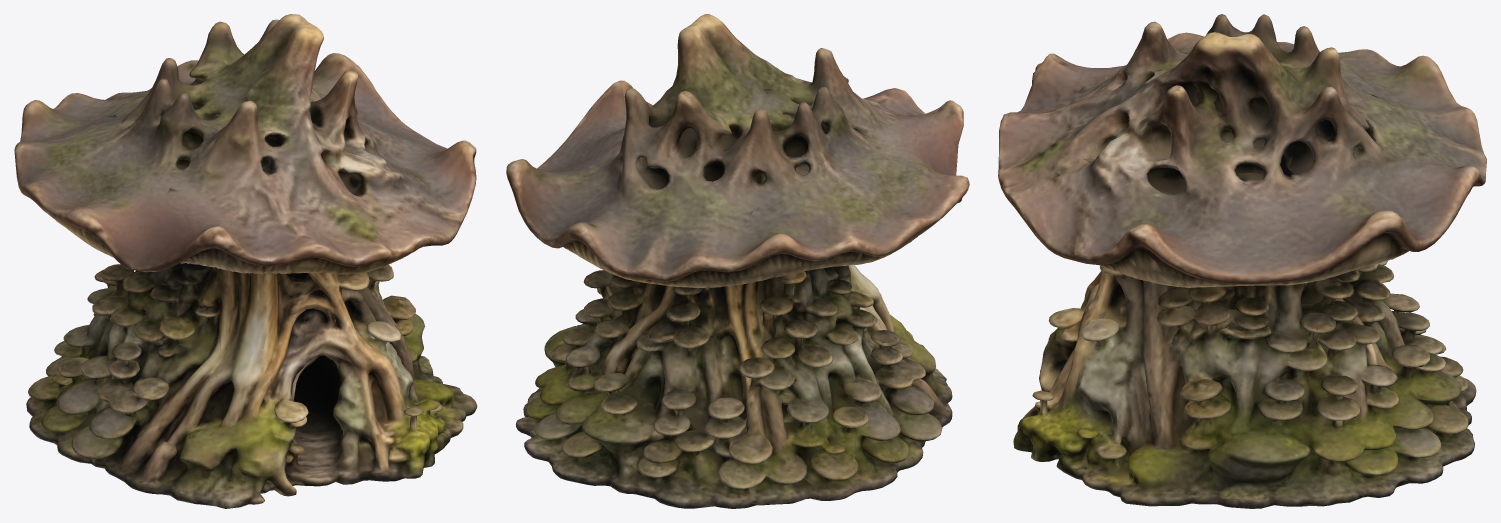
The model's file is mushroom-house.glb.
3 renders of one model, left to right at view 1: azimuth 30°, elevation 25°; view 2: azimuth 150°, elevation 25°; view 3: azimuth 270°, elevation 25°, orthographic. The views are drawn at different scales.
Visible parts, largest first — view 1: node_0; view 2: node_0; view 3: node_0.
Part boxes in pixels (<box>): node_0: <box>14,14,477,508</box>; node_0: <box>506,14,969,508</box>; node_0: <box>998,14,1486,508</box>.
Bounding box in the file's own units: 0.8574 × 0.8041 × 0.8793.
1 material, 1 textured.
